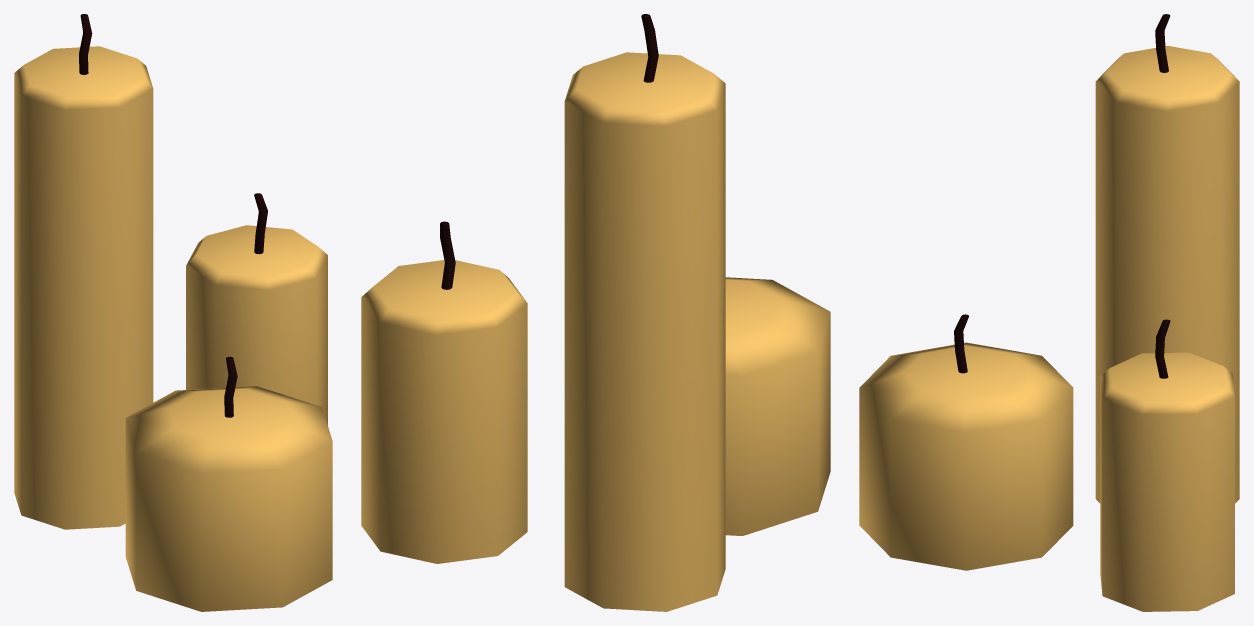
Rendered from SM_Bougie_GroupD.fbx.
3 renders of one model, left to right at view 1: azimuth 30°, elevation 25°; view 2: azimuth 150°, elevation 25°; view 3: azimuth 270°, elevation 25°, orthographic. The views are drawn at different scales.
Visible parts, largest first — view 1: pasted__pCylinder16; view 2: pasted__pCylinder16; view 3: pasted__pCylinder16.
Part boxes in pixels (x1,y1,x2,y2): pasted__pCylinder16: [14, 14, 332, 611]; pasted__pCylinder16: [361, 14, 830, 611]; pasted__pCylinder16: [859, 14, 1239, 611].
Bounding box in the file's own units: 4.72 × 7.65 × 5.29.
